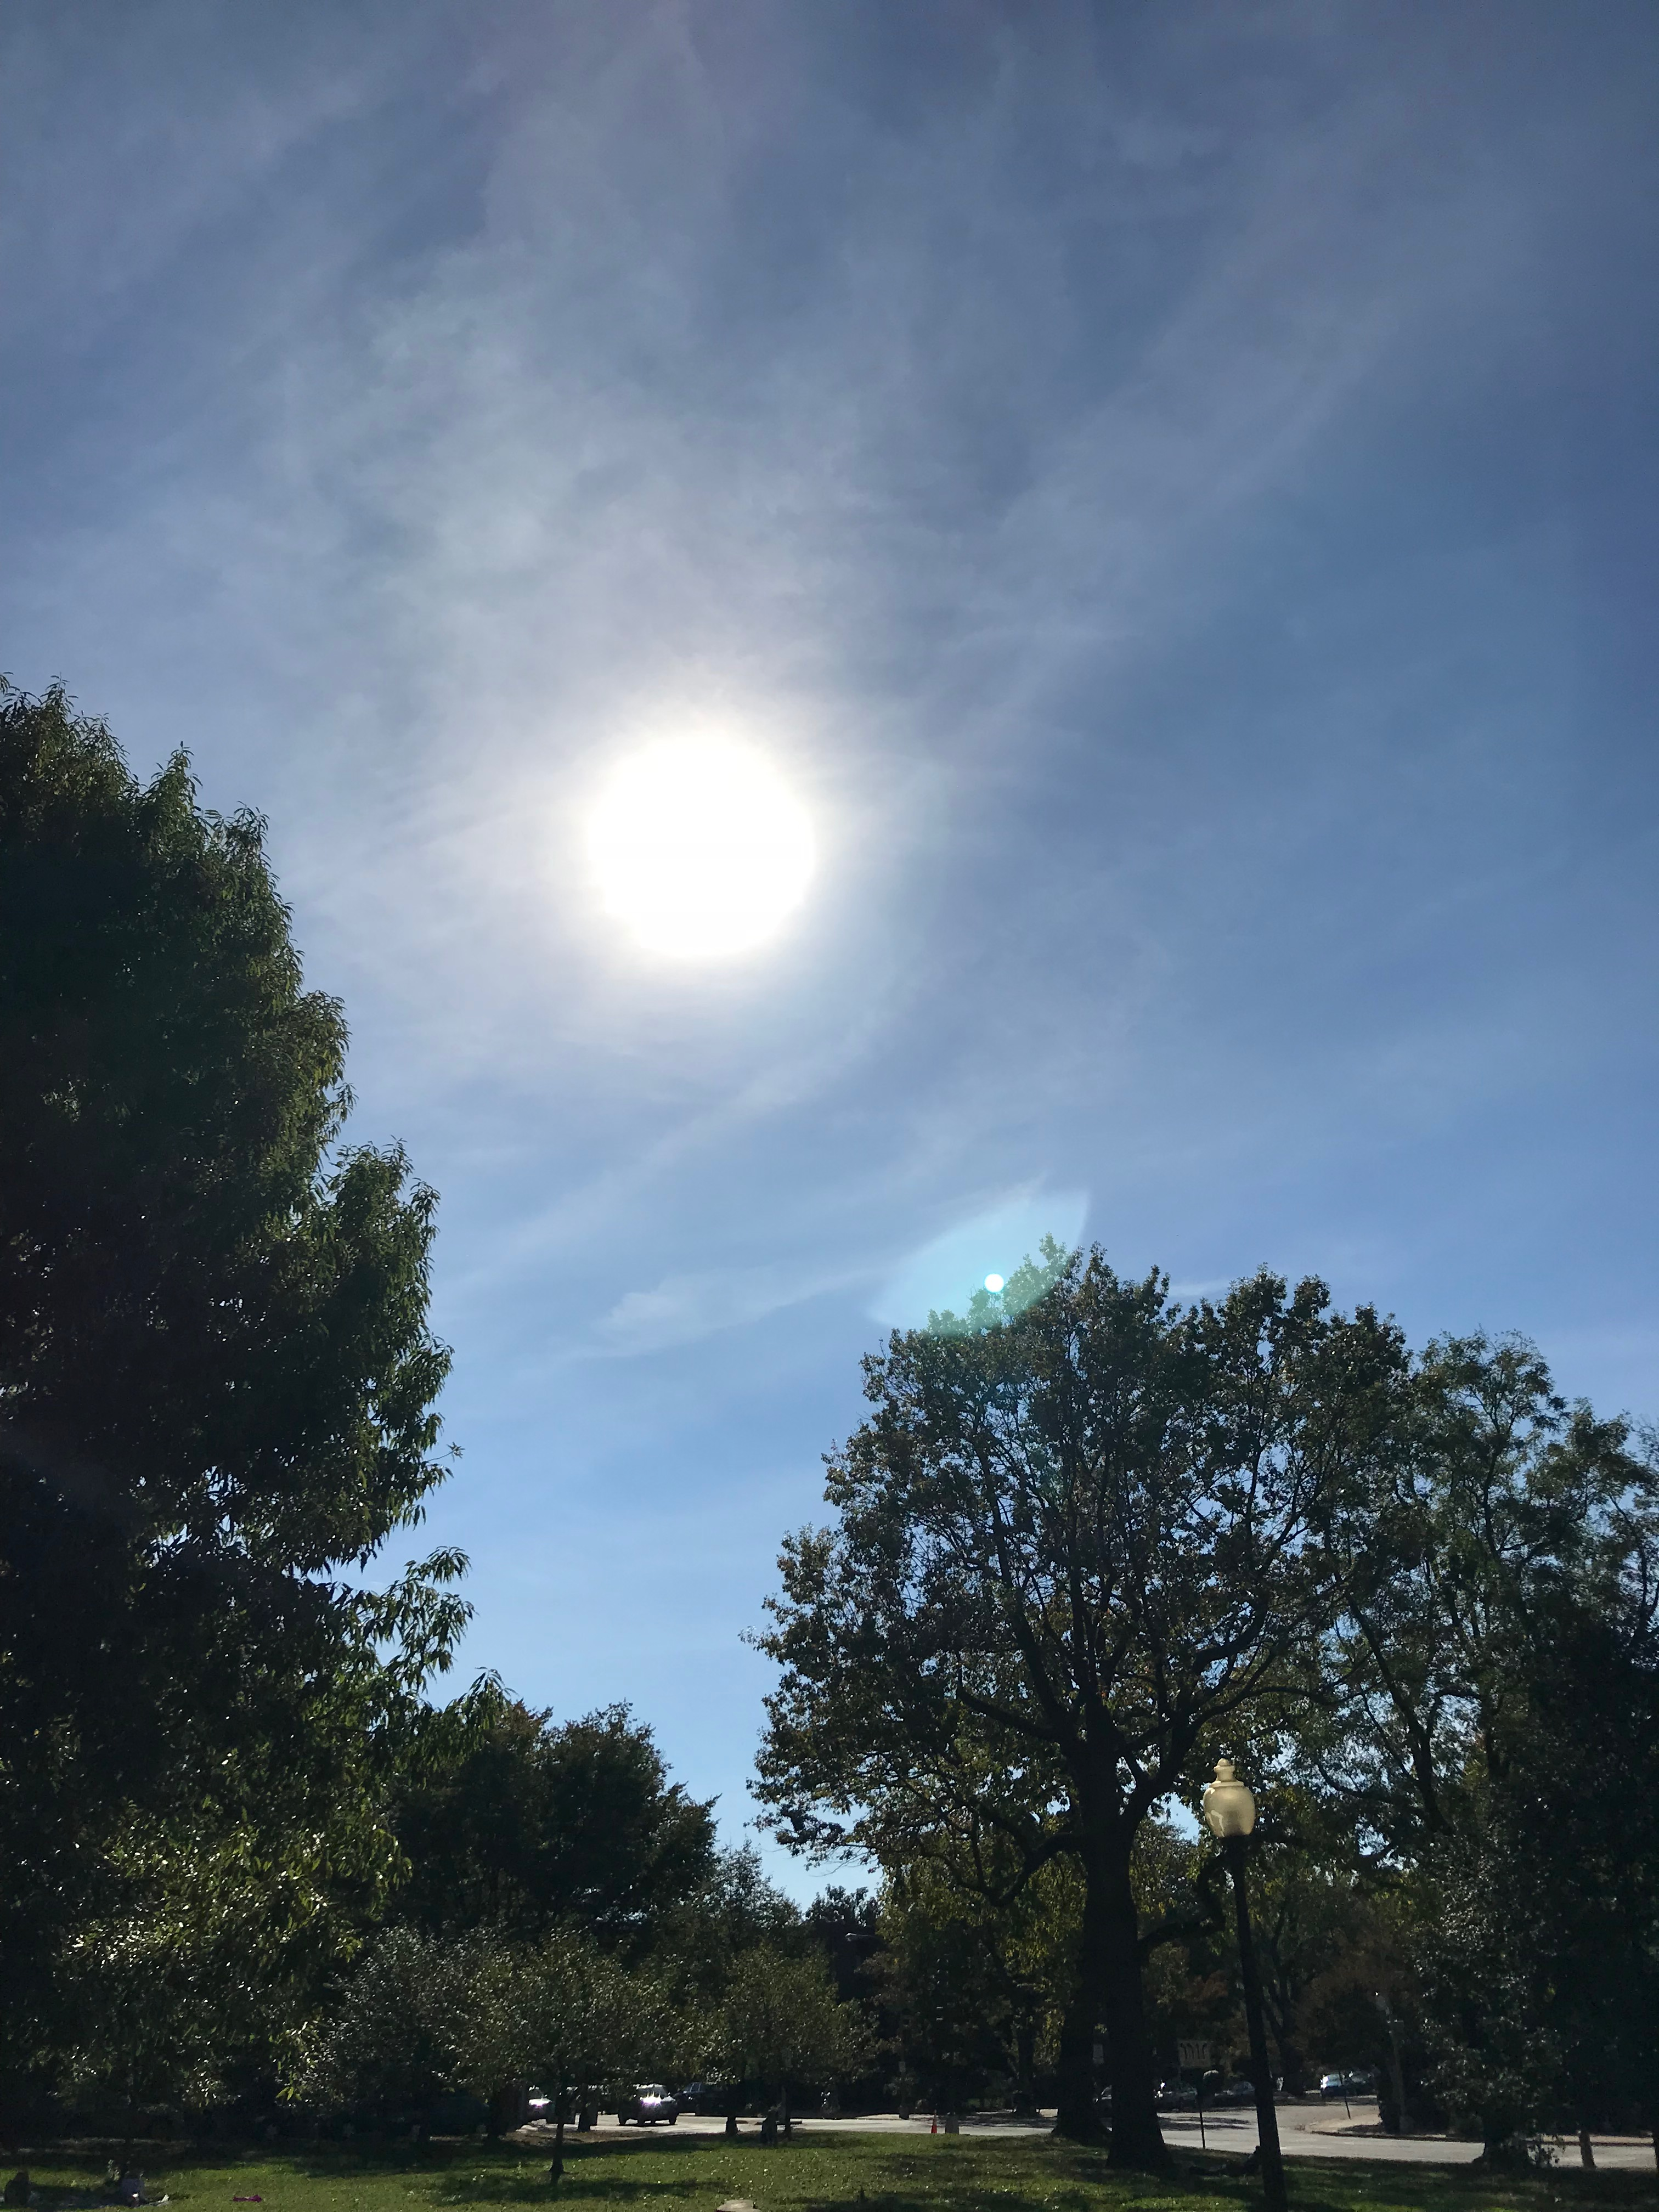flare: (983, 1271, 1007, 1296)
